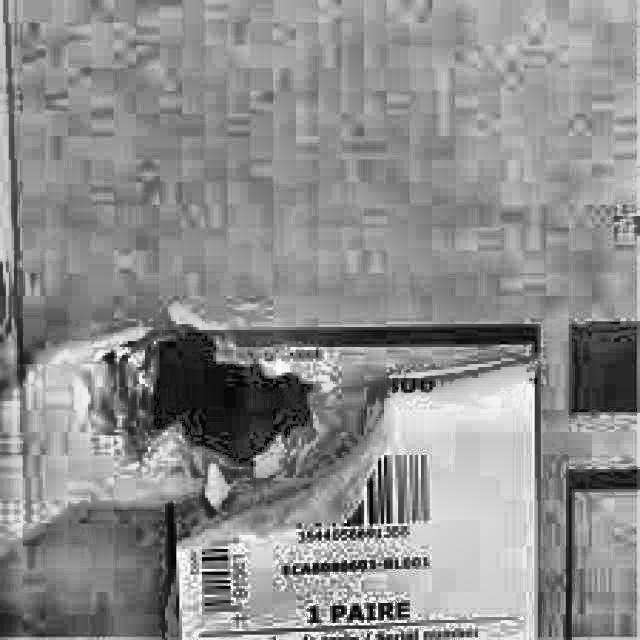box: (0, 0, 639, 639)
hole: (114, 311, 331, 506)
